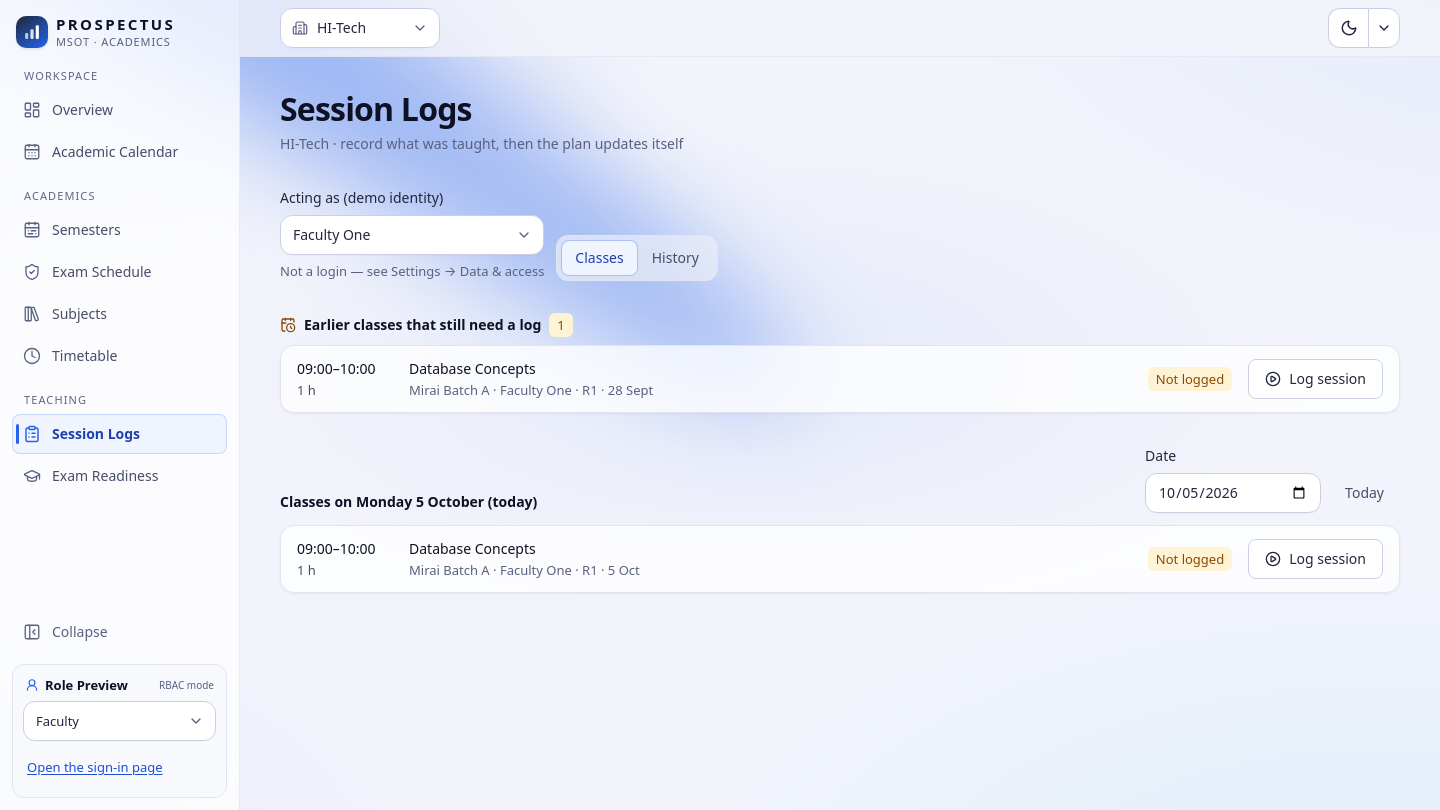
Test: Session Logs page › logs a session in a few taps: prefilled header, mark a topic Done, Save, and see the effect on progress
Click the button with aria-label "Log session for Database Concepts, Mirai Batch A, 5 Oct": (1316, 559) [1248,539,1383,579]
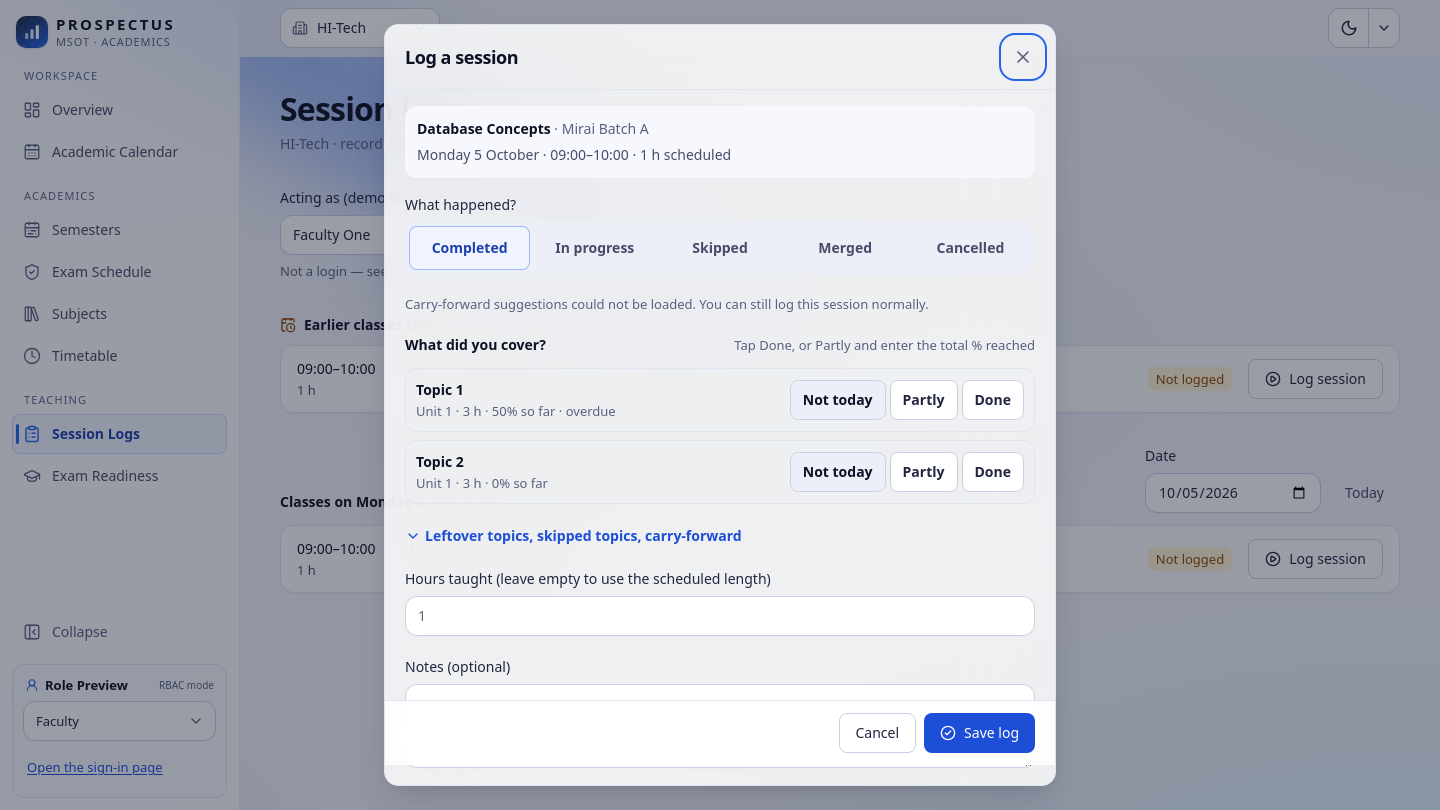
Expected: the text "Monday 5 October · 09:00–10:00 · 1 h scheduled" is shown, [417,145,731,164]
Click the button "Done" in the row of "Topic 2": (993, 472) [962,452,1024,492]
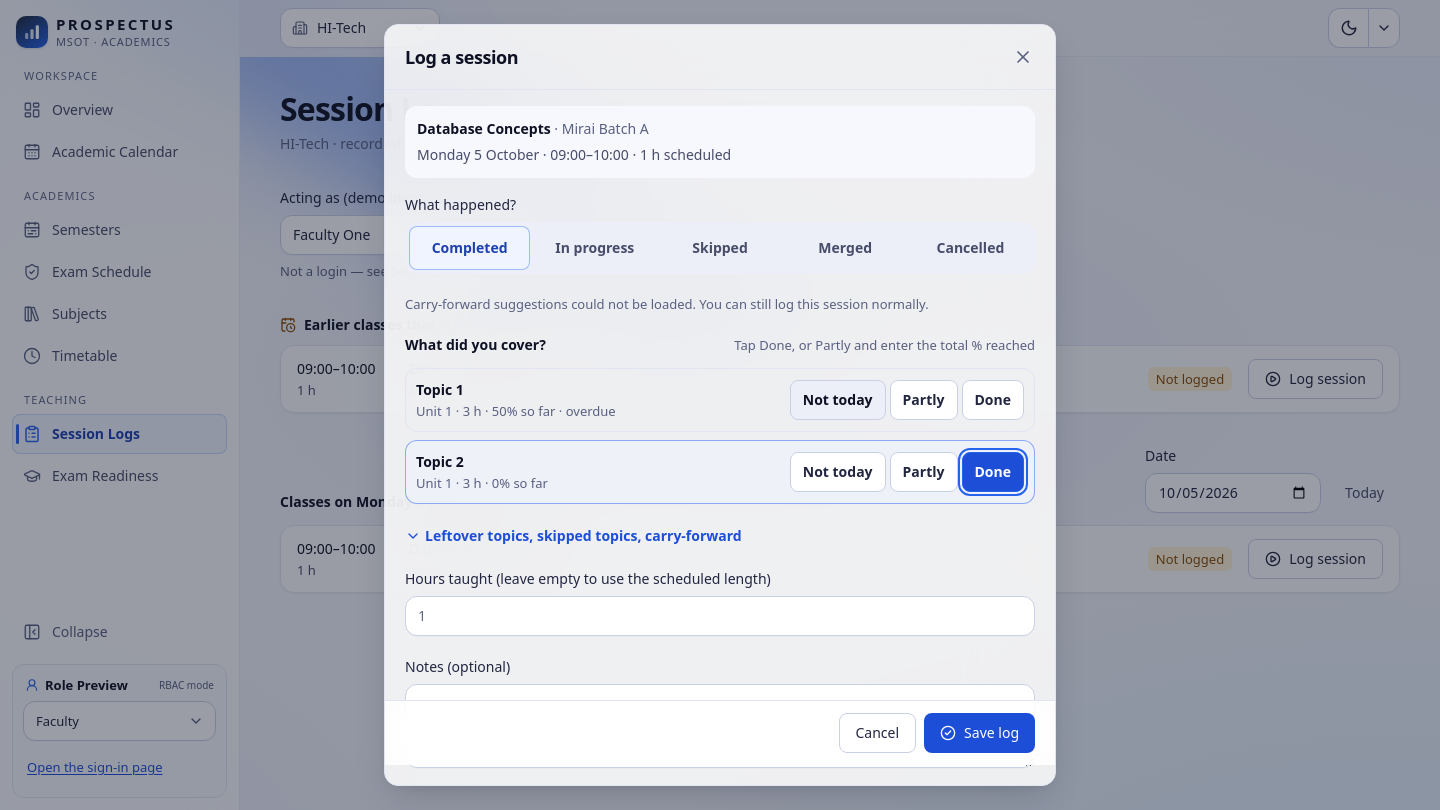
Click the button "Save log": (980, 733) [924,713,1035,753]
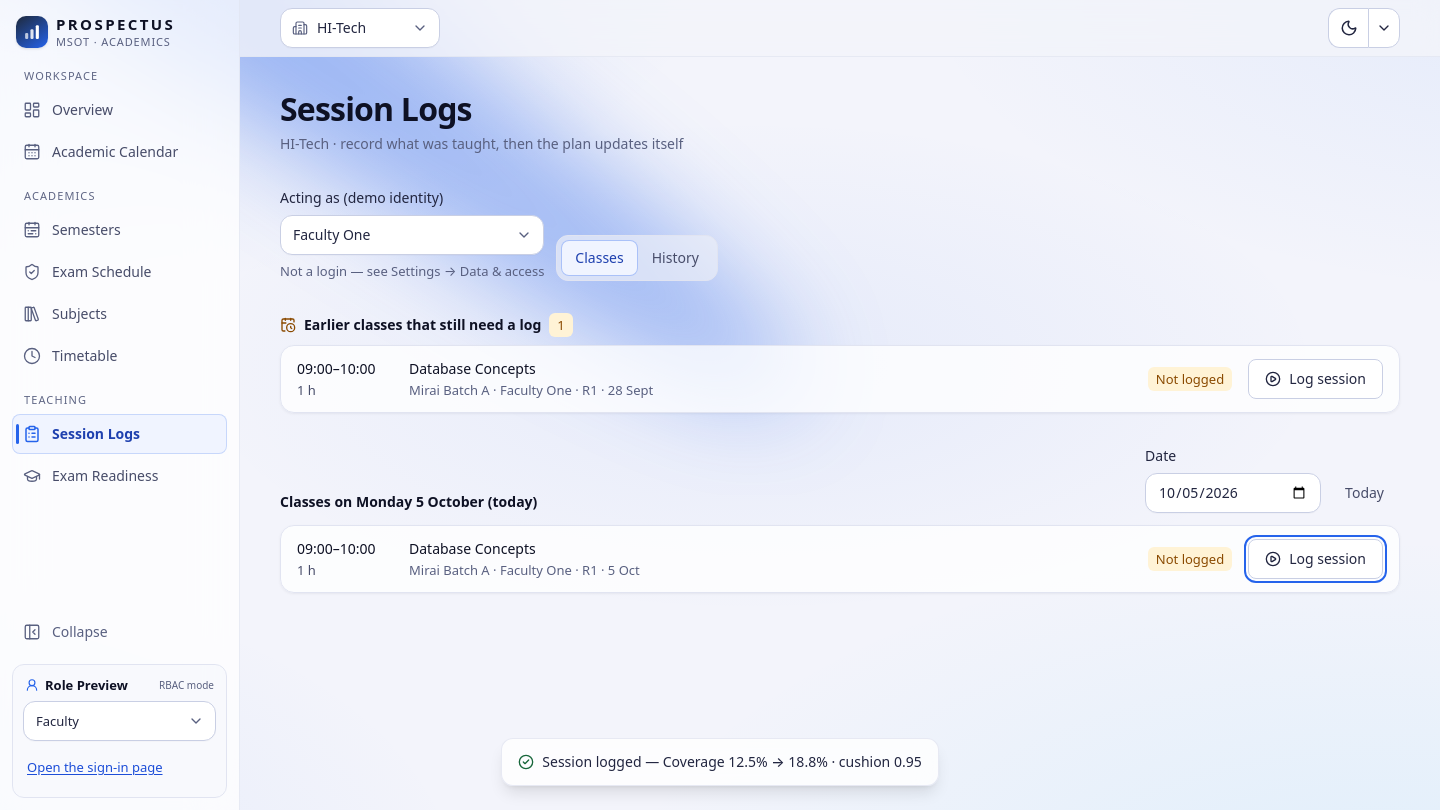
Expected: the dialog is gone
Expected: the text "Session logged — Coverage 12.5% → 18.8% · cushion 0.95" is shown, [501,738,939,786]
